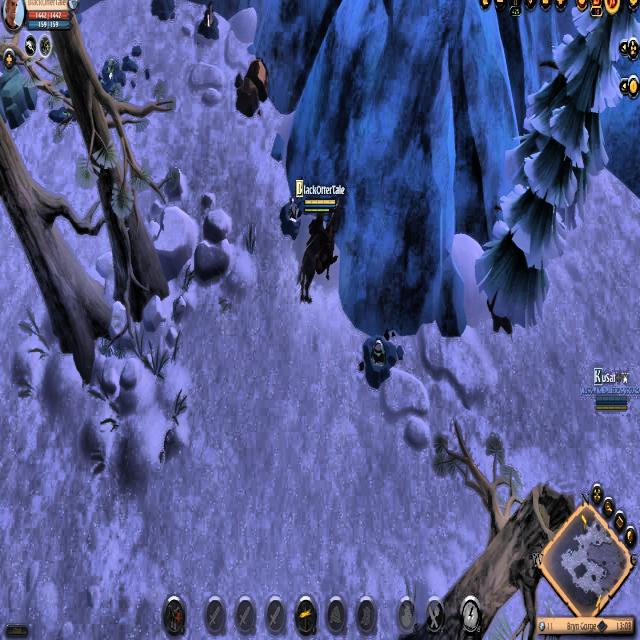copperore: (198, 1, 221, 40)
limestone: (232, 55, 270, 121)
sandstone: (0, 66, 37, 124)
